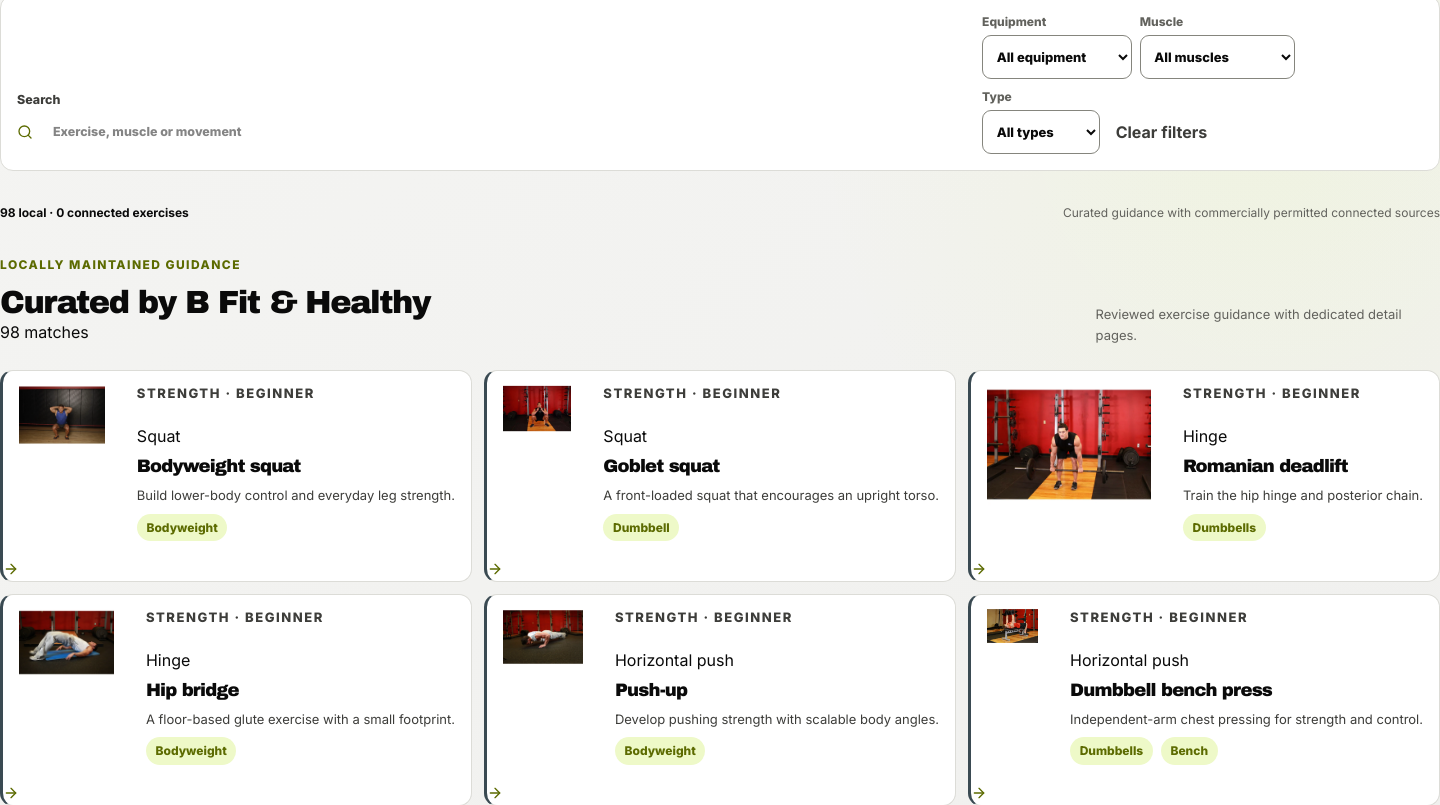
ExerciseLibrary › keeps matching curated exercises usable when connected search fails
Type "squat" into the search field. click: (506, 132)
box: [41, 110, 970, 154]
Wait 275 ms
(page scrolled)
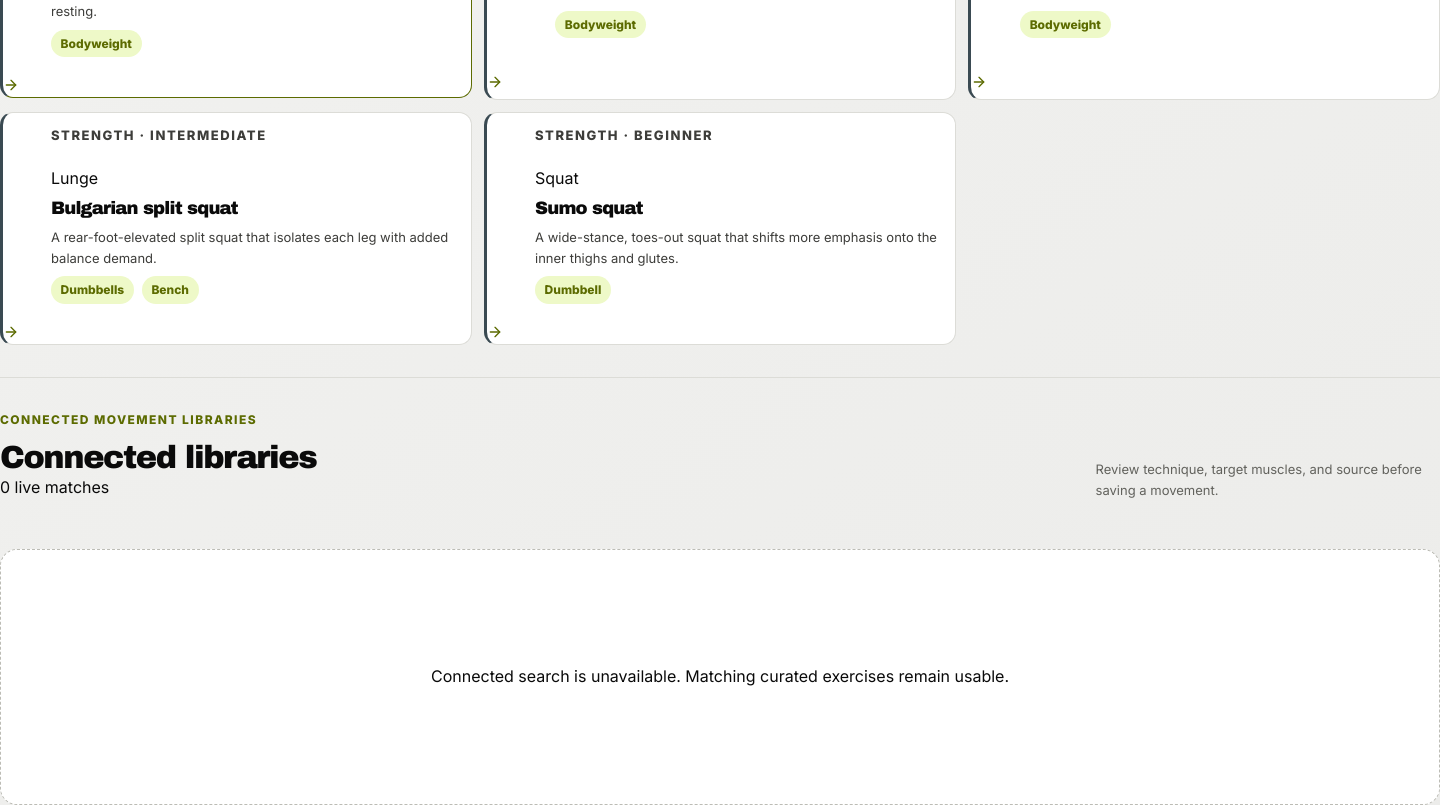
Result: the text "Connected search is unavailable. Matching curated exercises remain usable." is shown at [431, 664, 1009, 690]
